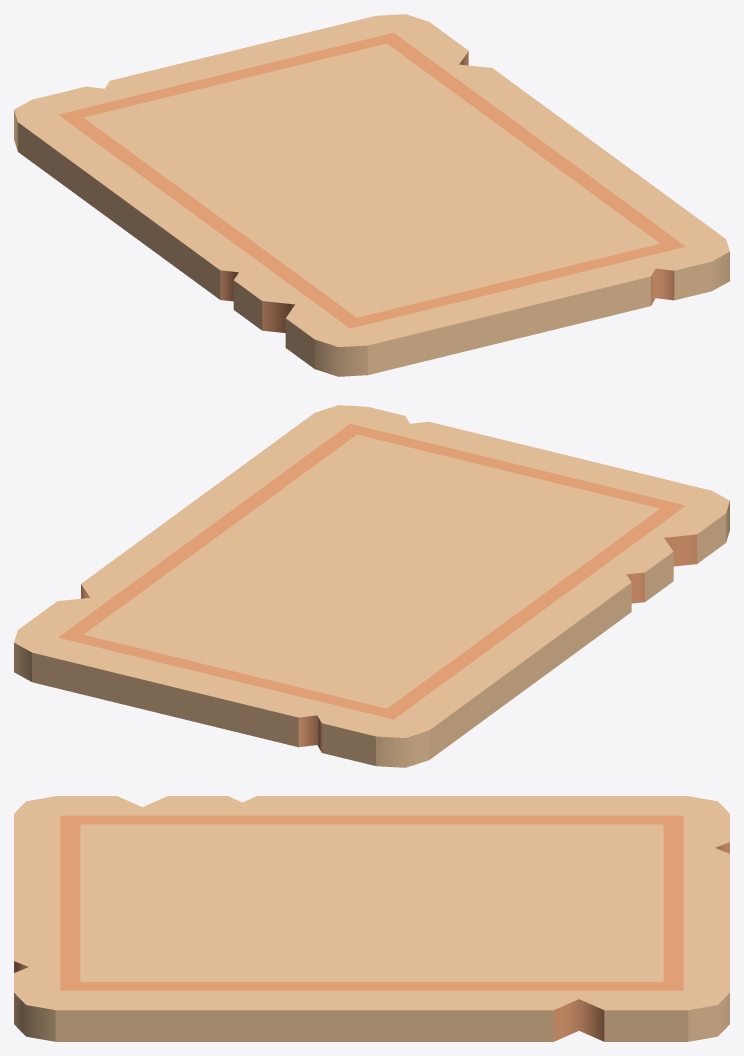
Rendered from cuttingBoard.GLB.
The picture shows the model from 3 angles, top to bottom: view 1: azimuth 30°, elevation 25°; view 2: azimuth 150°, elevation 25°; view 3: azimuth 270°, elevation 25°; orthographic projection. The views are drawn at different scales.
Visible parts, largest first — view 1: cuttingBoard; view 2: cuttingBoard; view 3: cuttingBoard.
Boxes of the visible parts, bbox=[...] form: cuttingBoard: bbox=[14, 14, 729, 376]; cuttingBoard: bbox=[14, 405, 729, 767]; cuttingBoard: bbox=[14, 796, 729, 1041].
Size of the model in its own units: 0.58 by 0.04 by 0.82.
